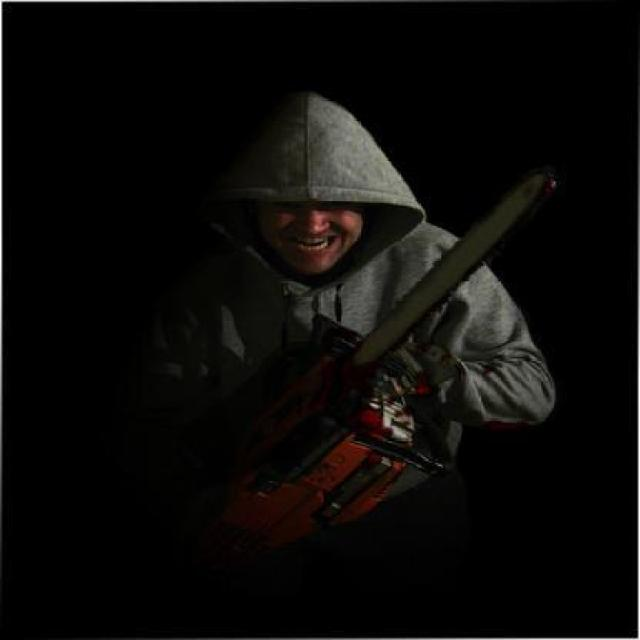Chainsaw: (208, 160, 557, 562)
